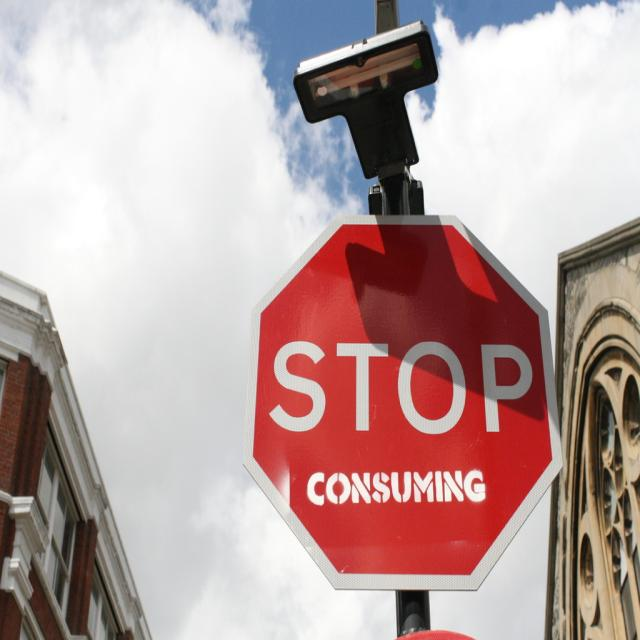Stop-sign: (239, 212, 565, 588)
